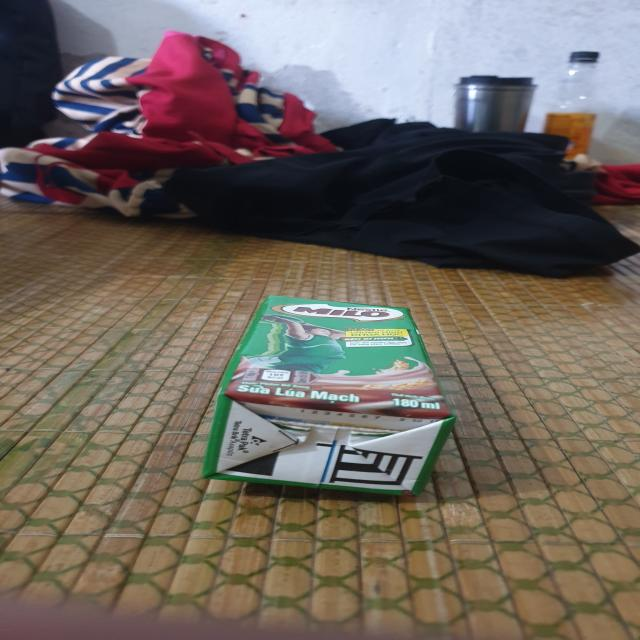Milo: (195, 295, 460, 499)
